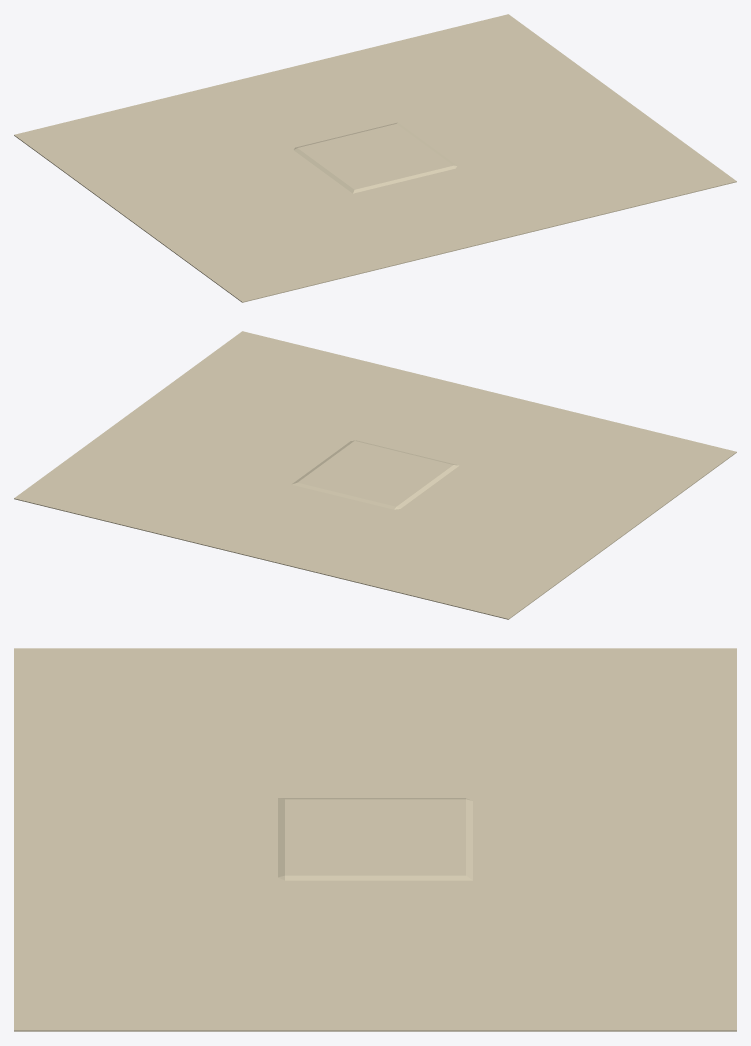
Rendered from paper.glb.
3 views of the same model, one above another, from view 1: azimuth 30°, elevation 25°; view 2: azimuth 150°, elevation 25°; view 3: azimuth 270°, elevation 25° (orthographic). The views are drawn at different scales.
Visible parts, largest first — view 1: ActualFlatSheet, ActualEmbossedSheet; view 2: ActualFlatSheet, ActualEmbossedSheet; view 3: ActualEmbossedSheet, ActualFlatSheet.
Part boxes in pixels (<box>): ActualFlatSheet: <box>14,14,736,302</box>; ActualEmbossedSheet: <box>14,14,736,302</box>; ActualFlatSheet: <box>14,331,736,619</box>; ActualEmbossedSheet: <box>14,331,735,619</box>; ActualEmbossedSheet: <box>14,648,736,1031</box>; ActualFlatSheet: <box>14,648,736,1031</box>.
Bounding box in the file's own units: 0.5 × 0.002 × 0.4.
